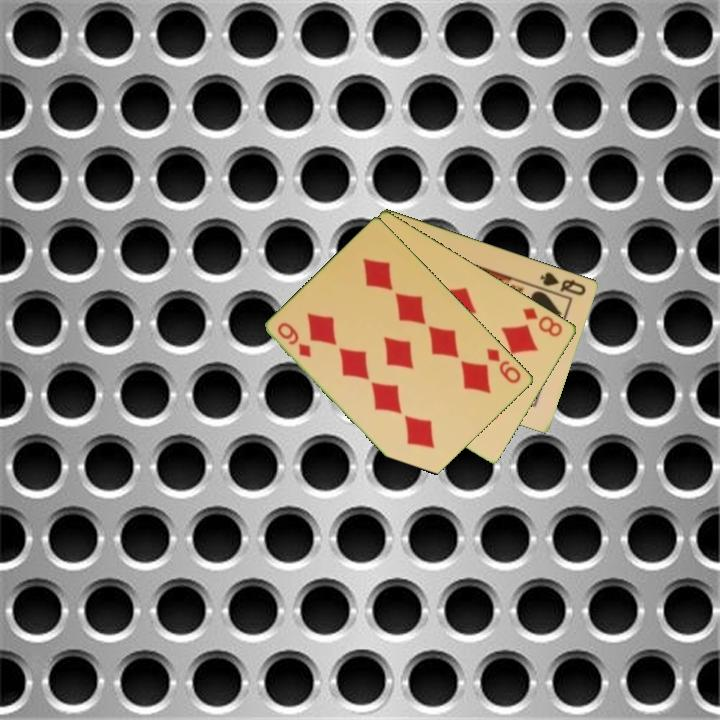8d: (520, 304, 566, 340)
9d: (483, 344, 524, 387), (274, 319, 315, 360)
Qs: (537, 268, 589, 298)
